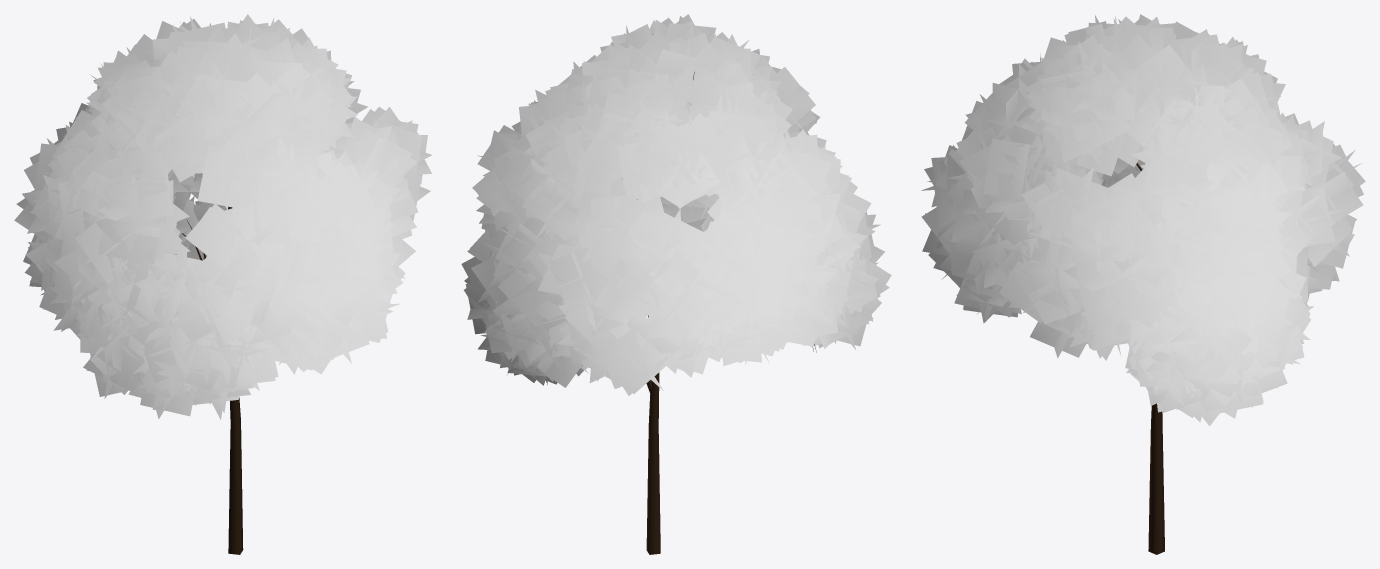
The model's file is StylizedTree_LOD1.fbx.
The picture shows the model from 3 angles, left to right: view 1: azimuth 30°, elevation 25°; view 2: azimuth 150°, elevation 25°; view 3: azimuth 270°, elevation 25°; orthographic projection. The views are drawn at different scales.
Parts seen in each view (by area): view 1: Leaf_LOD1, Trunk_LOD1; view 2: Leaf_LOD1, Trunk_LOD1; view 3: Leaf_LOD1, Trunk_LOD1.
Part boxes in pixels (x1=…): Leaf_LOD1: x1=14, y1=14, x2=432, y2=419; Trunk_LOD1: x1=182, y1=206, x2=243, y2=554; Leaf_LOD1: x1=461, y1=14, x2=891, y2=395; Trunk_LOD1: x1=646, y1=72, x2=816, y2=554; Leaf_LOD1: x1=921, y1=14, x2=1365, y2=426; Trunk_LOD1: x1=1136, y1=163, x2=1164, y2=554.
Size of the model in its own units: 4.94 by 6.94 by 5.39.
